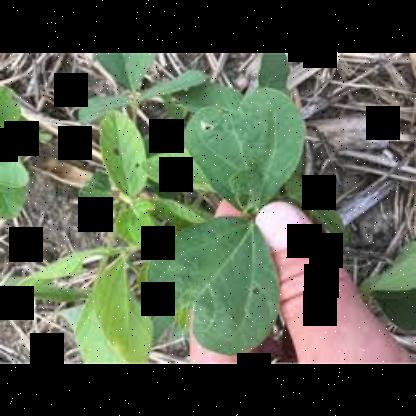agujero: (250, 278, 266, 298), (110, 141, 122, 157), (202, 120, 218, 130), (134, 160, 142, 176)
